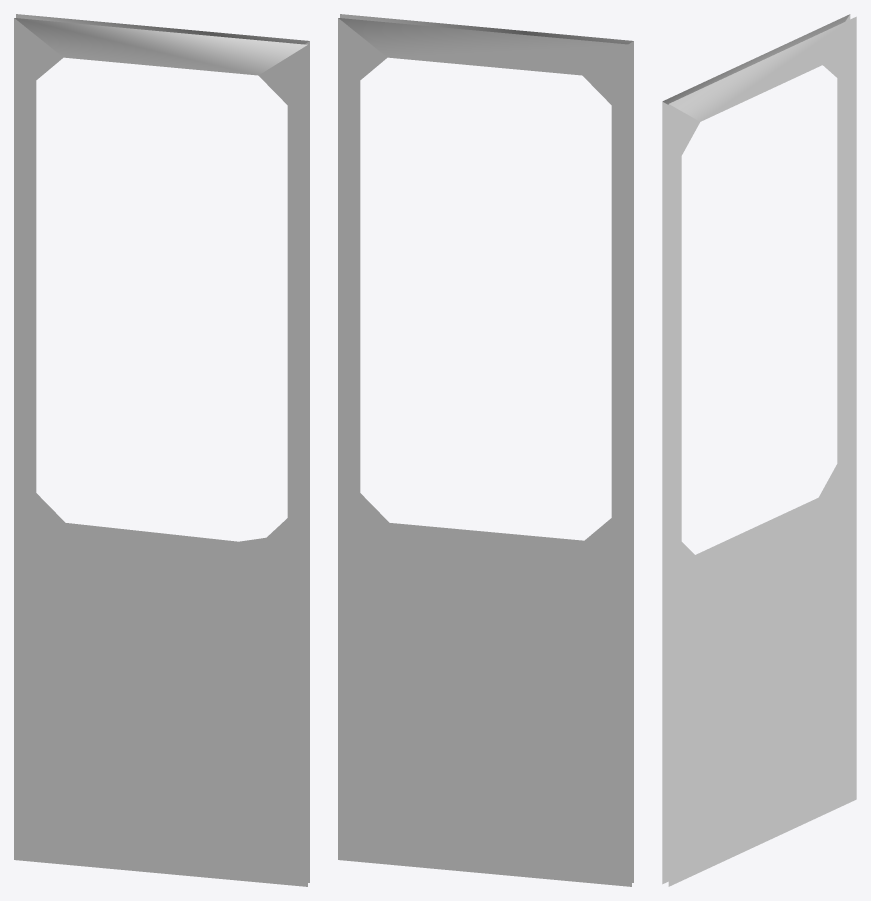
3 renders of one model, left to right at view 1: azimuth 30°, elevation 25°; view 2: azimuth 210°, elevation 25°; view 3: azimuth 270°, elevation 25°, orthographic. The views are drawn at different scales.
Size of the model in its own units: 0.4035 by 1.64 by 0.3687.
1 material, 1 textured.
